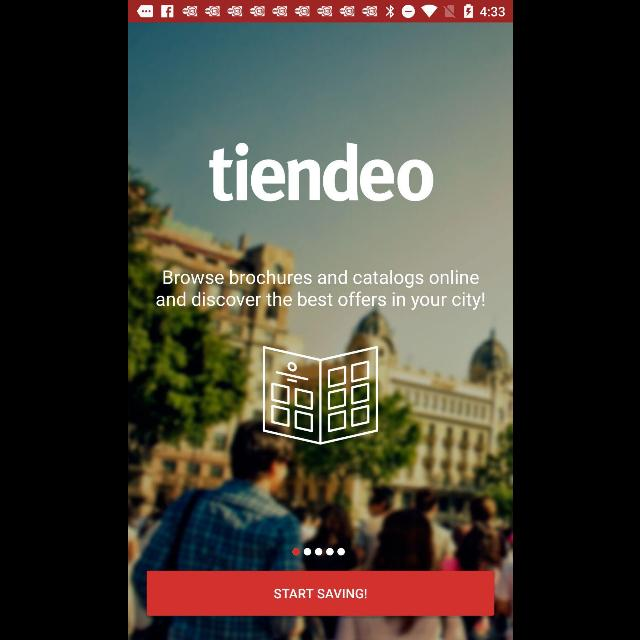backgroundimage: (128, 22, 512, 640)
image: (262, 346, 378, 444)
pageindicator: (292, 548, 344, 556)
text: (208, 142, 434, 202), (156, 270, 484, 310)
textbutton: (146, 570, 494, 616)
uppertaskbar: (128, 1, 512, 23)
